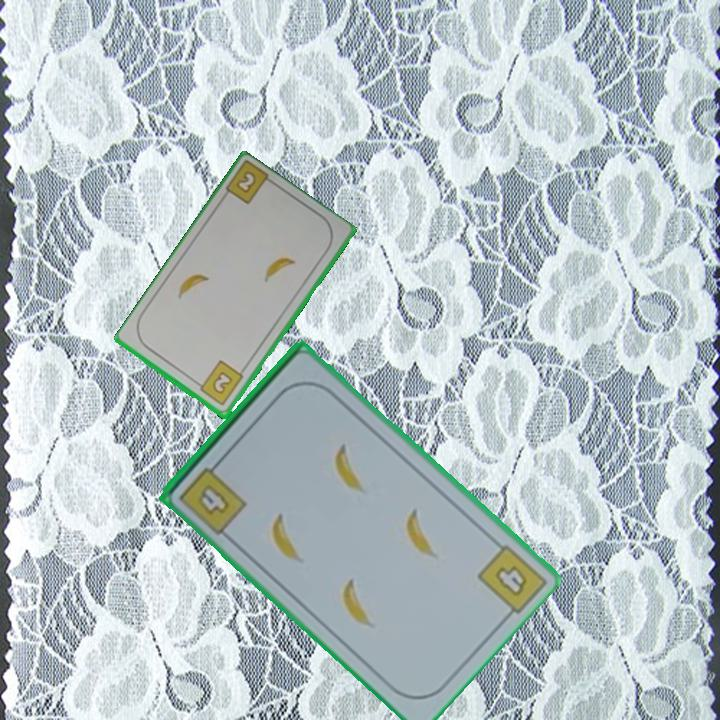2b: (192, 357, 246, 409), (232, 168, 259, 197)
4b: (175, 455, 250, 538), (491, 561, 531, 600)
